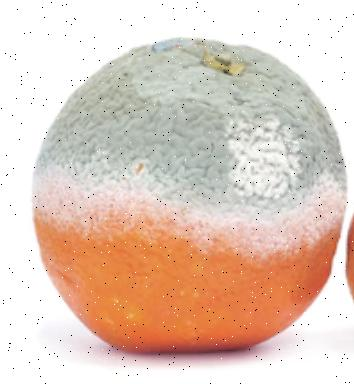Orange Rotten: (25, 12, 346, 376)
